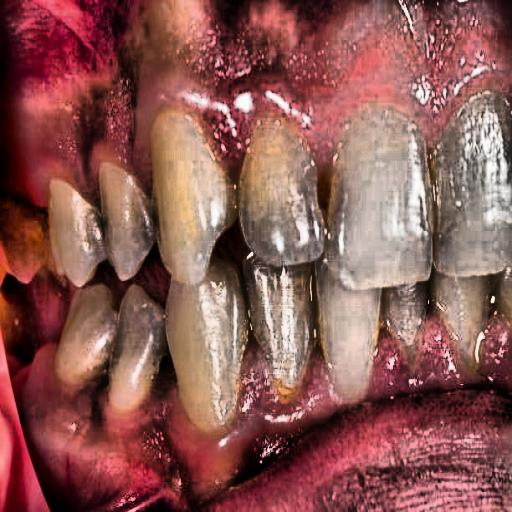Gingivitis: (9, 338, 271, 500), (126, 17, 323, 165), (316, 6, 512, 147), (18, 89, 136, 171)
